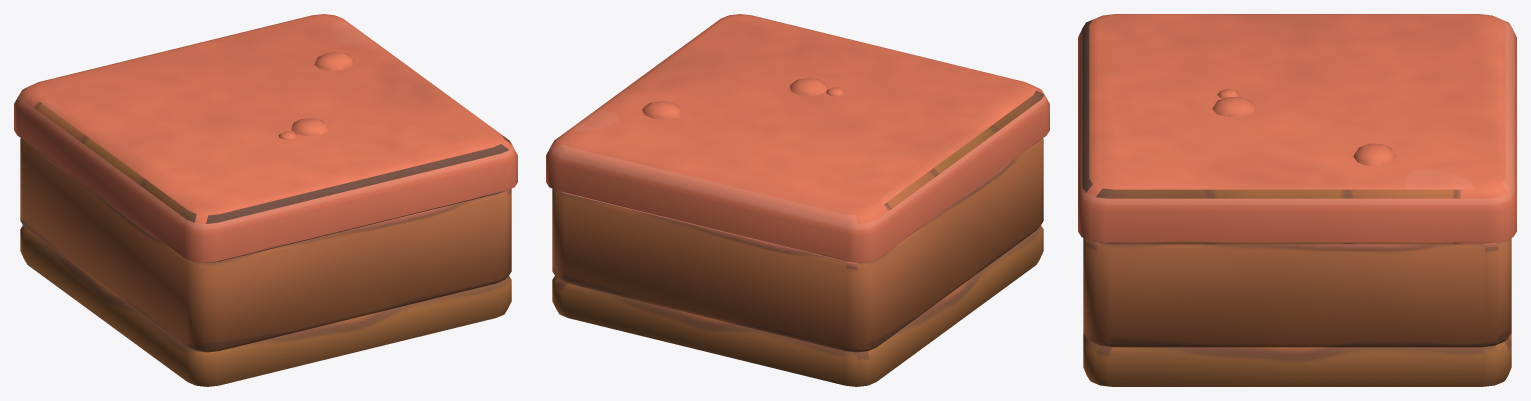
The model's file is wall_pillar_low.glb.
The picture shows the model from 3 angles, left to right: view 1: azimuth 30°, elevation 25°; view 2: azimuth 150°, elevation 25°; view 3: azimuth 270°, elevation 25°; orthographic projection. The views are drawn at different scales.
Parts seen in each view (by area): view 1: wall_pillar_low; view 2: wall_pillar_low; view 3: wall_pillar_low.
Part boxes in pixels (bbox=[...]): wall_pillar_low: bbox=[14, 14, 517, 386]; wall_pillar_low: bbox=[546, 14, 1049, 386]; wall_pillar_low: bbox=[1078, 14, 1516, 386].
Bounding box in the file's own units: 1 × 0.5232 × 1.
2 materials, 2 textured.
